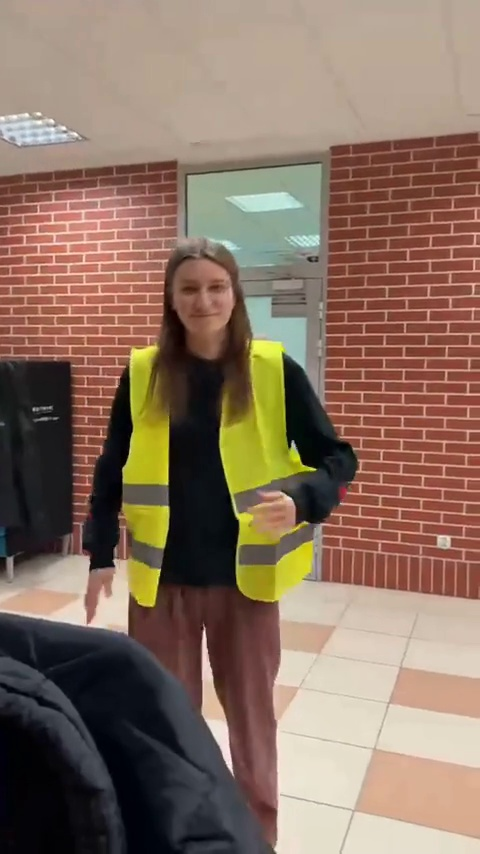vest: (80, 241, 354, 848)
